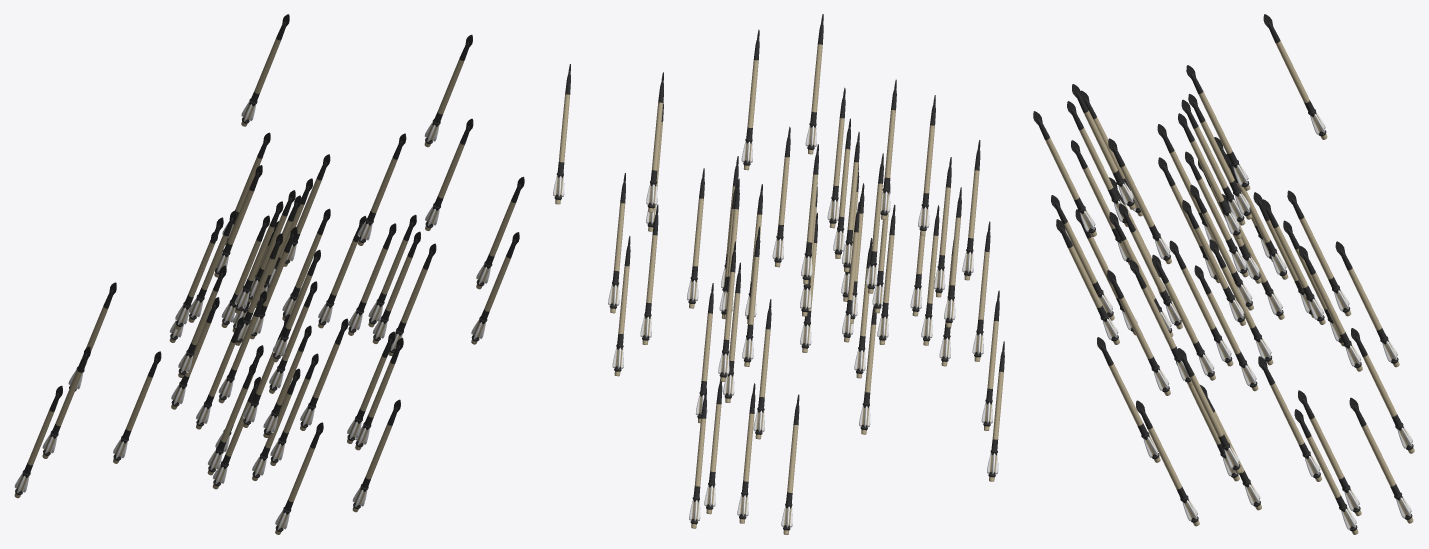
3 renders of one model, left to right at view 1: azimuth 30°, elevation 25°; view 2: azimuth 150°, elevation 25°; view 3: azimuth 270°, elevation 25°, orthographic. The views are drawn at different scales.
Parts seen in each view (by area): view 1: A1; view 2: A1; view 3: A1.
Boxes of the visible parts, left/top/right/bottom form: A1: left=14, top=14, right=524, bottom=534; A1: left=553, top=14, right=1004, bottom=534; A1: left=1033, top=14, right=1414, bottom=534.
Size of the model in its own units: 1.26 by 1.31 by 0.879.
